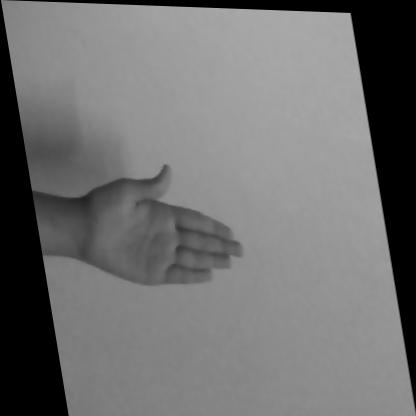palm: (18, 128, 265, 362)
